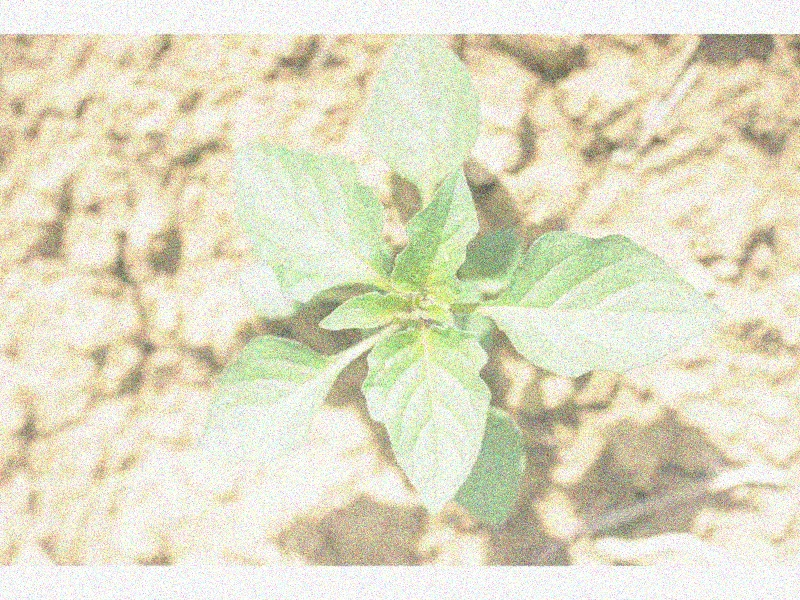nightshade: (198, 30, 726, 515)
